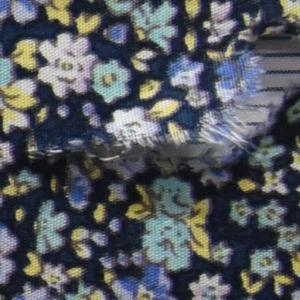Damage: (1, 13, 300, 190)
